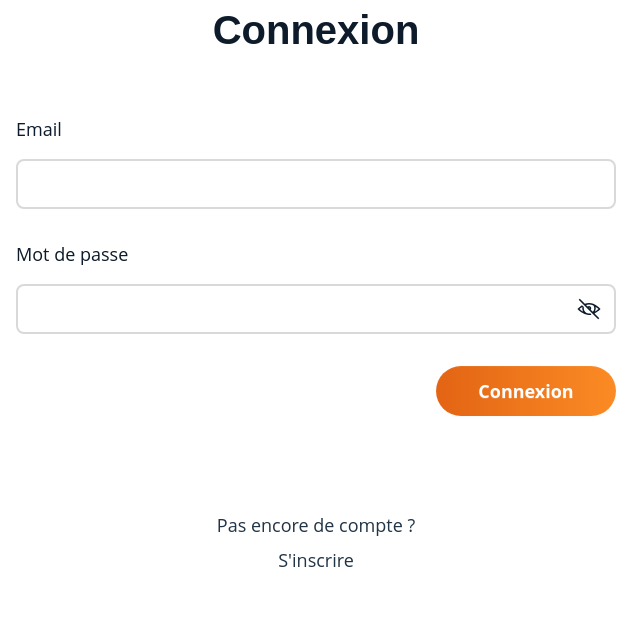
Test: Signin Form › should not submit if the email is empty
This screenshot has width=633, height=640.
Click the button "Connexion": (526, 391) [436, 366, 616, 416]
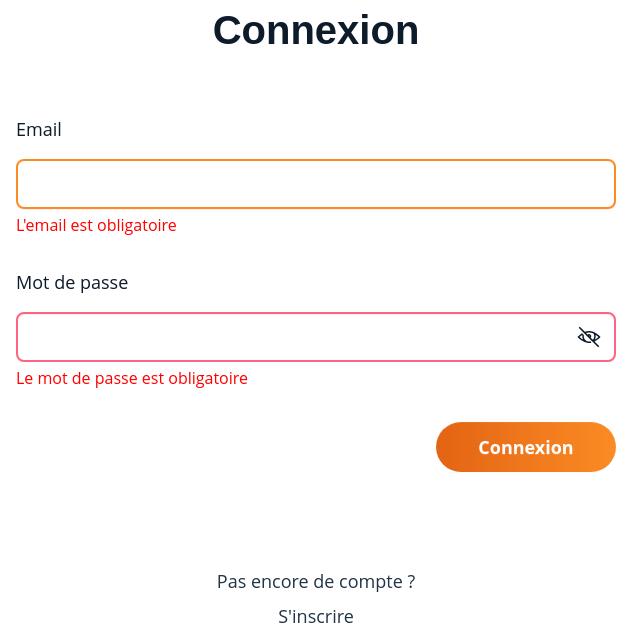
Check: the message "L'email est obligatoire" is shown, box [16, 214, 177, 236]
